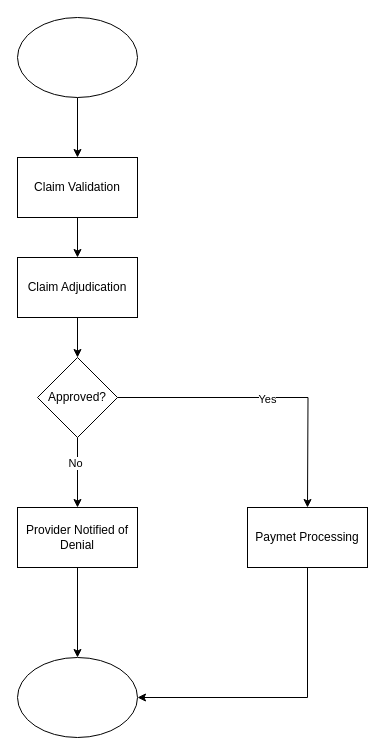
The diagram is 385 pixels wide and 755 high, and some of its shapes have lost their labels. The shapes that lost their labels are listed below. From the top down, each one's box as (x1, y1, x2, y2) in pixels, then its label:
(16, 16, 138, 98): Claim Submission
(16, 656, 138, 738): Process Complete
